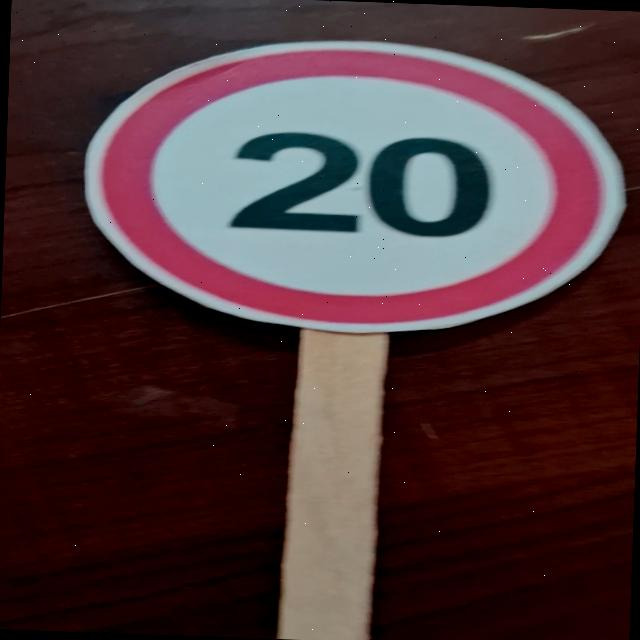Speed20: (59, 22, 636, 346)
